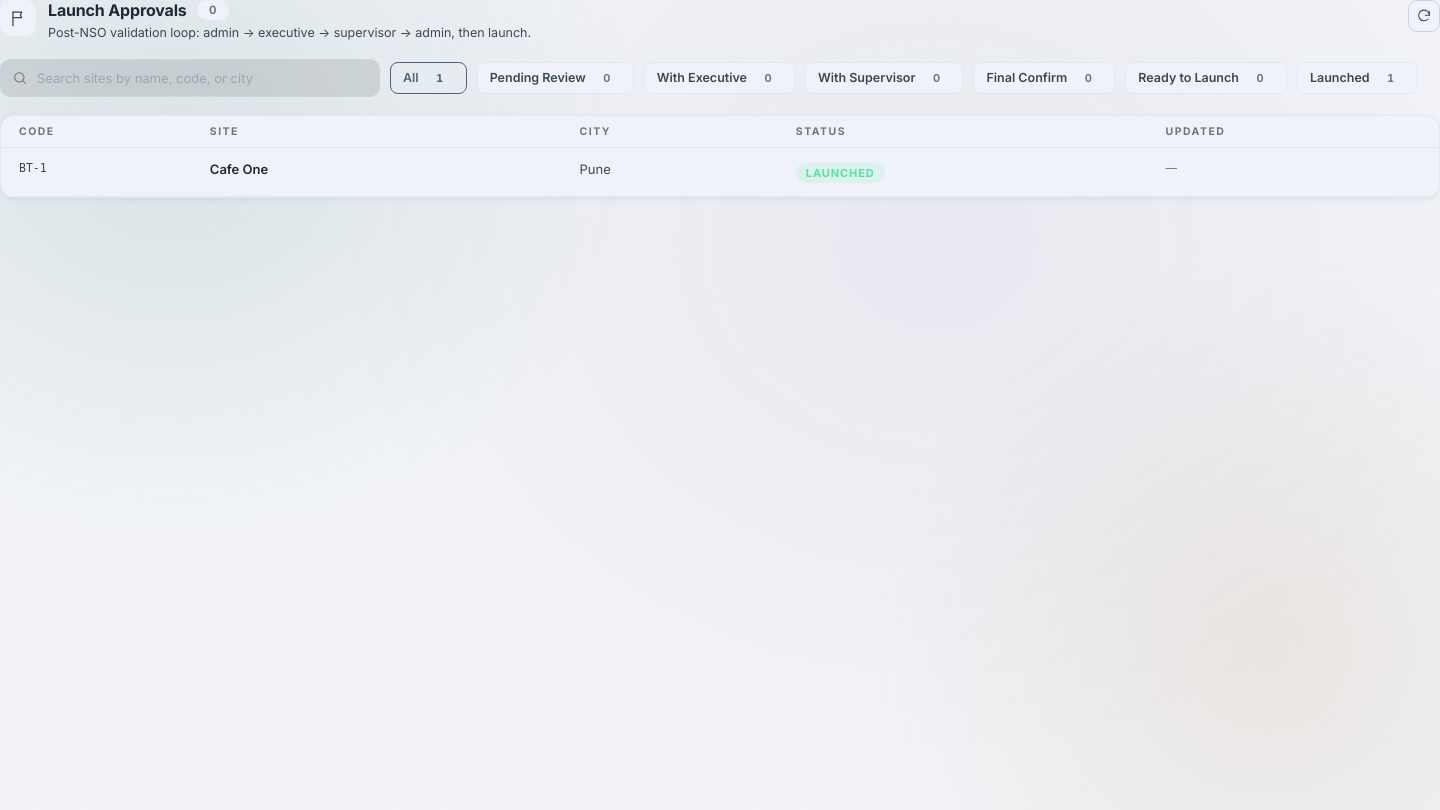
Test case: LaunchApprovalTab — financial closure action › keeps the action armed when the send fails, so it can be retried
Click the text "Cafe One" at (239, 169), box [210,161,268,177]
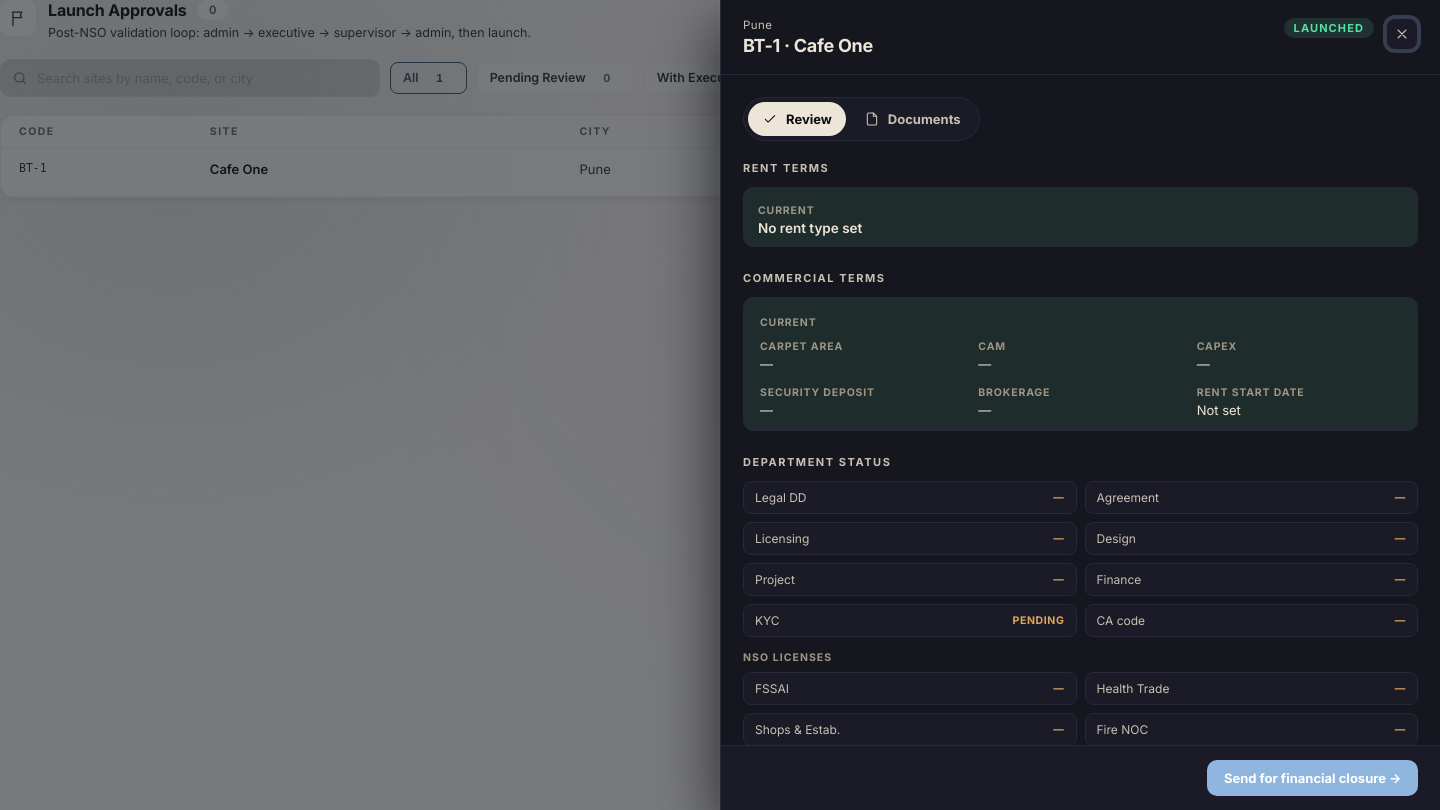
Expected: the button "Send for financial closure →" is shown
Click the button "Send for financial closure →" at (1312, 778), box [1206,760,1418,796]
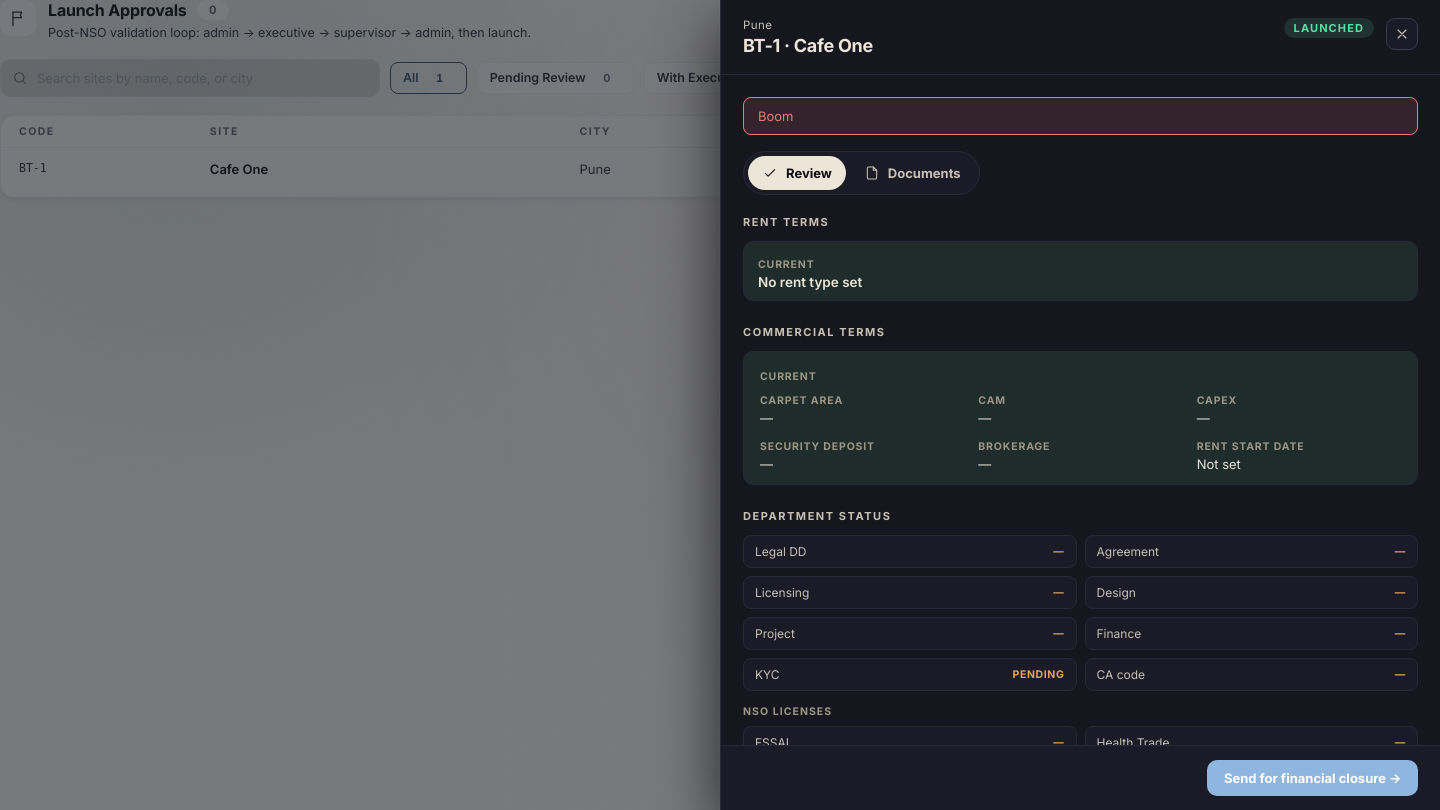
Expected: the button "Send for financial closure →" is enabled, [1206,760,1418,796]
Expected: the text "Boom" is shown, [743,97,1418,135]
